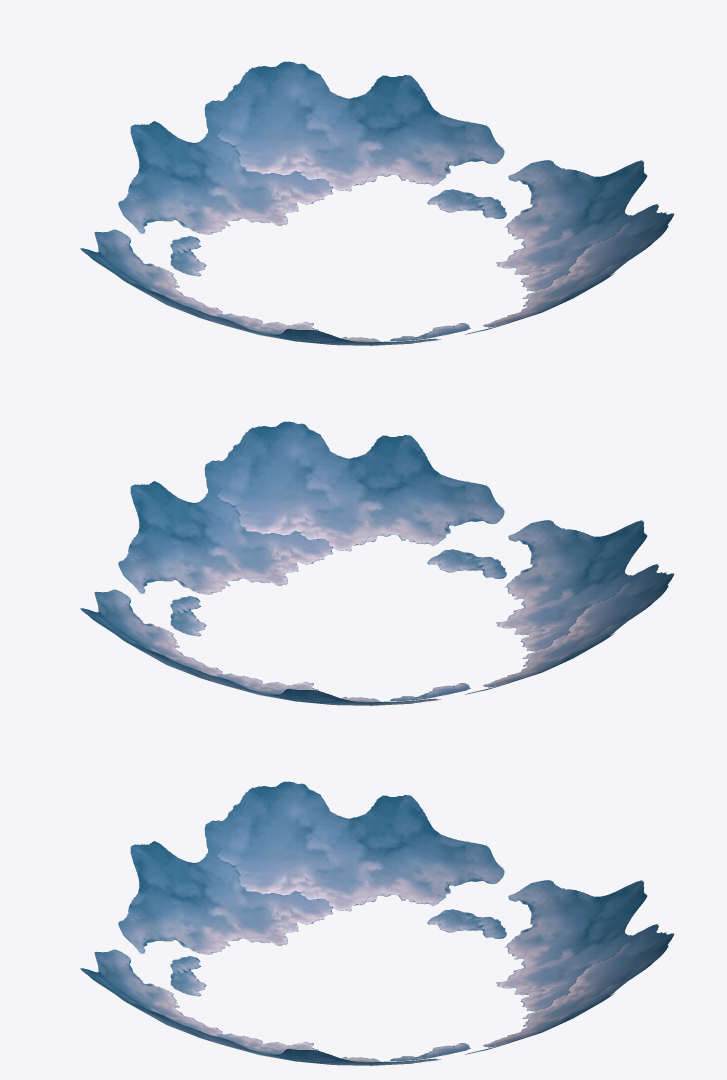
File: yunzhao.FBX
3 renders of one model, top to bottom at view 1: azimuth 30°, elevation 25°; view 2: azimuth 150°, elevation 25°; view 3: azimuth 270°, elevation 25°, orthographic.
Visible parts, largest first — view 1: Plane007; view 2: Plane007; view 3: Plane007.
Boxes of the visible parts, x1,y1,x2,y2 form: Plane007: [80, 61, 674, 345]; Plane007: [80, 421, 674, 705]; Plane007: [80, 781, 674, 1065].
Size of the model in its own units: 563 by 97.04 by 563.
